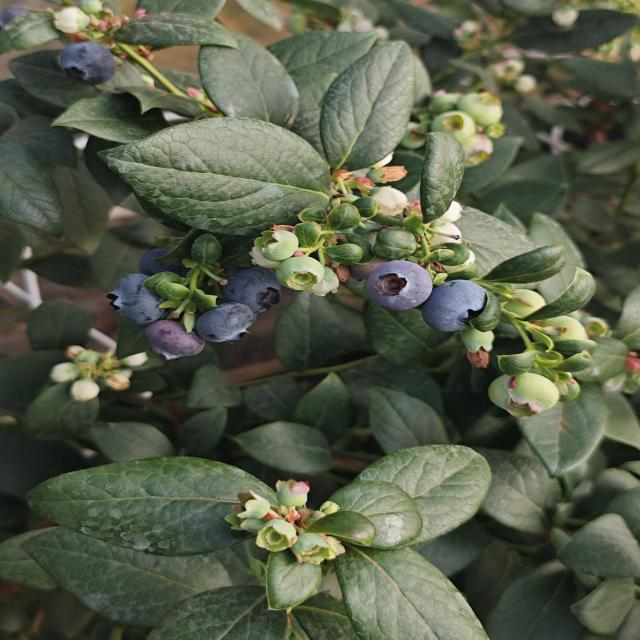ripe: (216, 260, 293, 318), (420, 274, 492, 336), (360, 258, 441, 312), (53, 40, 119, 87), (176, 303, 256, 340), (136, 241, 202, 284), (108, 278, 164, 327), (138, 323, 206, 362)
